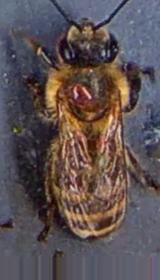varroa_mite: (59, 77, 102, 114)
